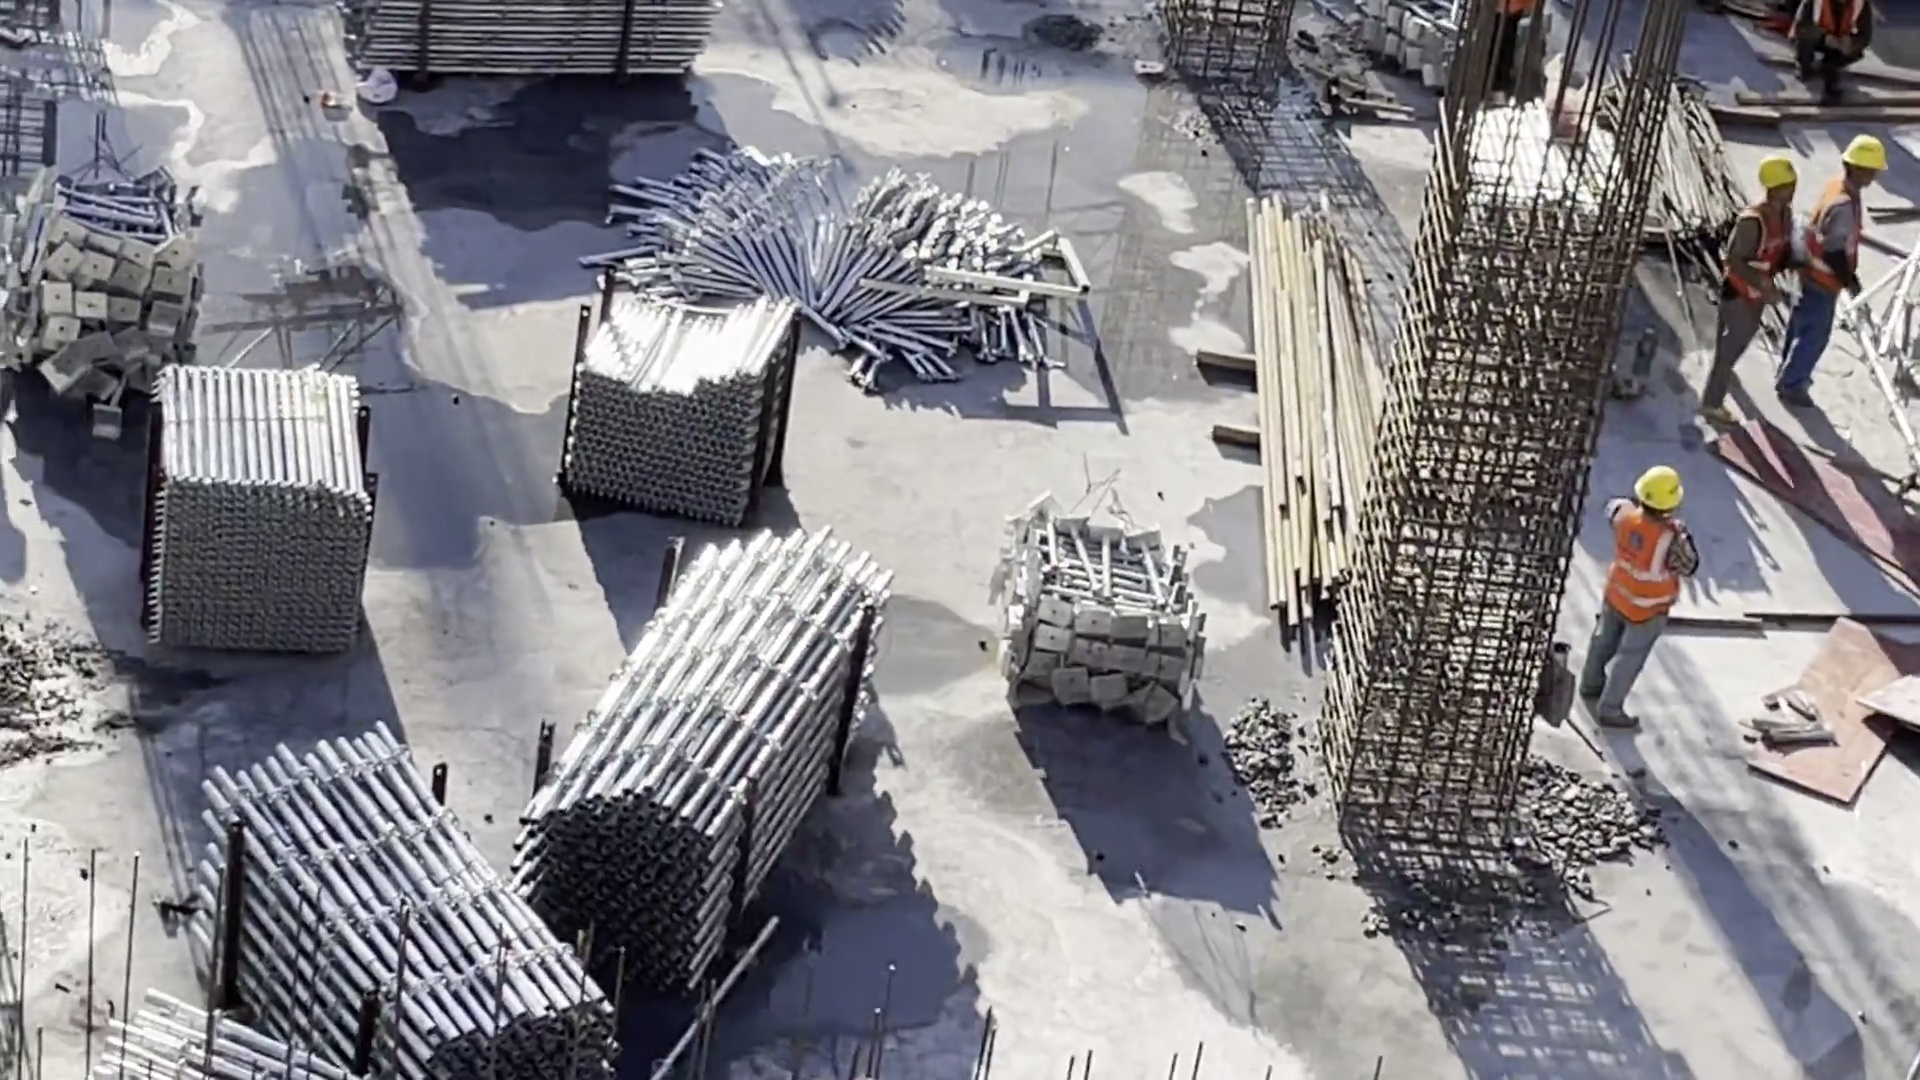helmet: (1634, 460, 1686, 517), (1843, 127, 1893, 174), (1756, 154, 1799, 198)
person: (1794, 124, 1891, 435), (1588, 450, 1689, 741), (1708, 120, 1785, 427), (1785, 1, 1881, 102)
scaffold: (539, 540, 891, 989), (180, 726, 601, 1080), (635, 145, 1071, 375), (144, 360, 368, 649), (1, 98, 195, 394), (566, 280, 785, 532), (997, 502, 1191, 719), (342, 1, 728, 100), (1334, 1, 1543, 100)
vest: (1604, 509, 1684, 615), (1722, 208, 1786, 311), (1808, 180, 1848, 304), (1791, 1, 1877, 48)
